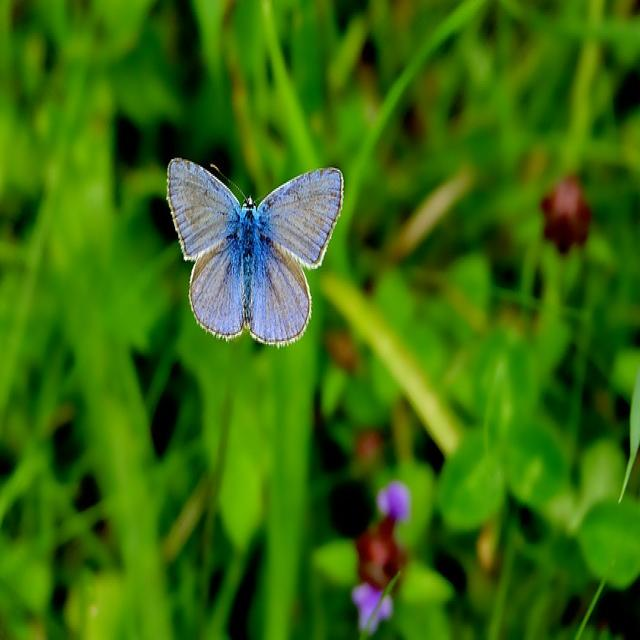butterfly: (168, 160, 342, 345)
